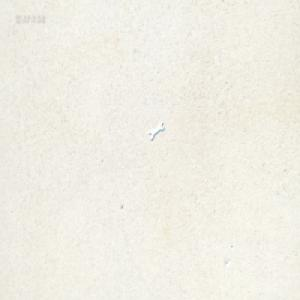Wrench: (148, 121, 164, 140)
